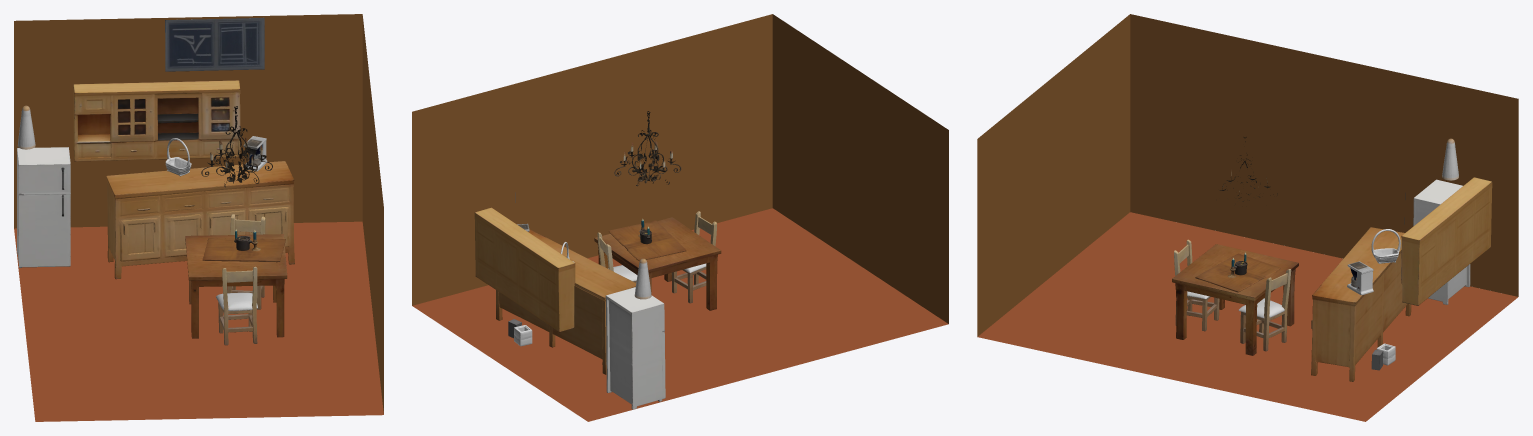
File: coco-186980.glb
3 renders of one model, left to right at view 1: azimuth 30°, elevation 25°; view 2: azimuth 150°, elevation 25°; view 3: azimuth 270°, elevation 25°, orthographic. The views are drawn at different scales.
Visible parts, largest first — view 1: Floor, Wall_01, world.009, world.008, world.001, Wall_04, world.002, world, world.007, Ceiling, world.004, world.013 (+2 smaller); view 2: Wall_04, Floor, Wall_03, world.008, world.001, world.009, world.002, world.007, Ceiling, world, world.004, world.013; view 3: Wall_02, Floor, Wall_03, world.009, world.008, world.002, world.004, world.007, world.001, world, world.003, world.013 (+1 smaller).
Part boxes in pixels (x1=…): Floor: x1=14, y1=221, x2=383, y2=421; Wall_01: x1=14, y1=14, x2=362, y2=228; world.009: x1=106, y1=161, x2=294, y2=279; world.008: x1=73, y1=80, x2=240, y2=161; world.001: x1=17, y1=147, x2=70, y2=267; Wall_04: x1=362, y1=16, x2=383, y2=413; world.002: x1=185, y1=234, x2=287, y2=338; world: x1=216, y1=266, x2=257, y2=345; world.007: x1=202, y1=229, x2=285, y2=262; Ceiling: x1=201, y1=106, x2=272, y2=187; world.004: x1=227, y1=214, x2=265, y2=309; world.013: x1=17, y1=105, x2=35, y2=149; Wall_04: x1=412, y1=14, x2=772, y2=305; Floor: x1=412, y1=208, x2=948, y2=421; Wall_03: x1=772, y1=14, x2=948, y2=323; world.008: x1=474, y1=207, x2=575, y2=332; world.001: x1=605, y1=287, x2=665, y2=409; world.009: x1=496, y1=229, x2=636, y2=374; world.002: x1=594, y1=217, x2=721, y2=310; world.007: x1=609, y1=218, x2=686, y2=260; Ceiling: x1=614, y1=111, x2=681, y2=186; world: x1=671, y1=211, x2=717, y2=303; world.004: x1=597, y1=232, x2=637, y2=282; world.013: x1=634, y1=258, x2=651, y2=299; Wall_02: x1=1130, y1=14, x2=1518, y2=296; Floor: x1=977, y1=212, x2=1517, y2=421; Wall_03: x1=977, y1=14, x2=1130, y2=336; world.009: x1=1311, y1=227, x2=1411, y2=381; world.008: x1=1401, y1=177, x2=1492, y2=305; world.002: x1=1172, y1=244, x2=1298, y2=355; world.004: x1=1238, y1=269, x2=1291, y2=351; world.007: x1=1195, y1=252, x2=1280, y2=292; world.001: x1=1413, y1=179, x2=1470, y2=304; world: x1=1174, y1=239, x2=1219, y2=331; world.003: x1=1347, y1=261, x2=1373, y2=295; world.013: x1=1442, y1=138, x2=1458, y2=180.
Bounding box in the file's own units: 6.27 × 2.76 × 6.83.
20 materials, 14 textured.
